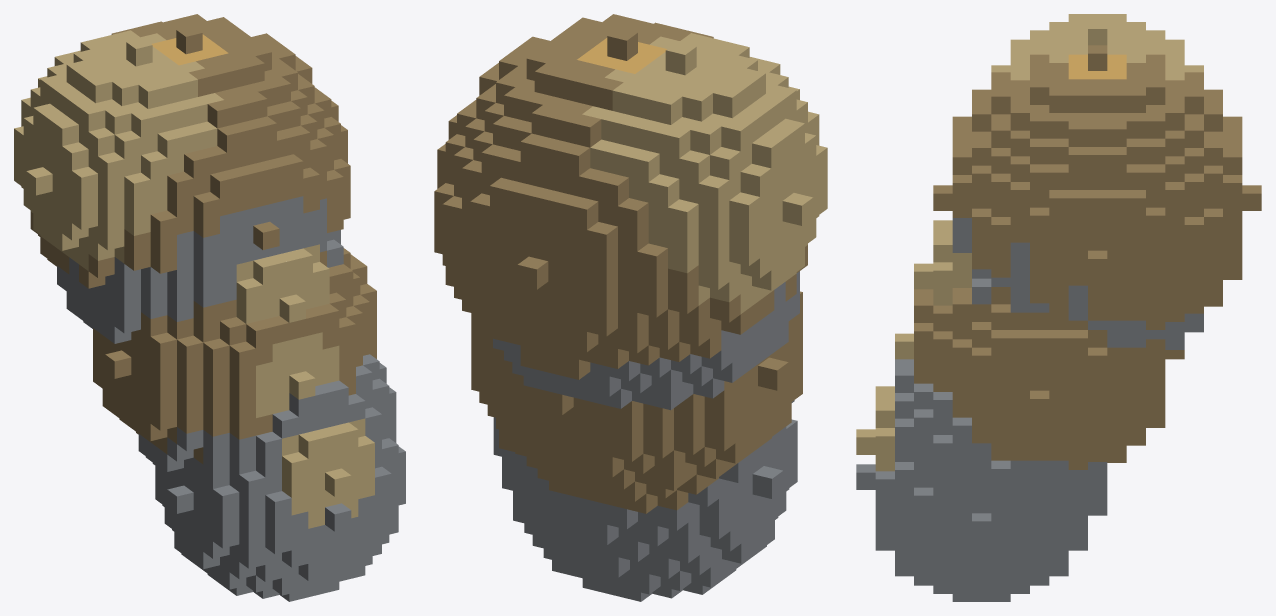
File: lf_shin.glb
3 renders of one model, left to right at view 1: azimuth 30°, elevation 25°; view 2: azimuth 150°, elevation 25°; view 3: azimuth 270°, elevation 25°, orthographic. The views are drawn at different scales.
Bounding box in the file's own units: 18 × 30 × 21.
